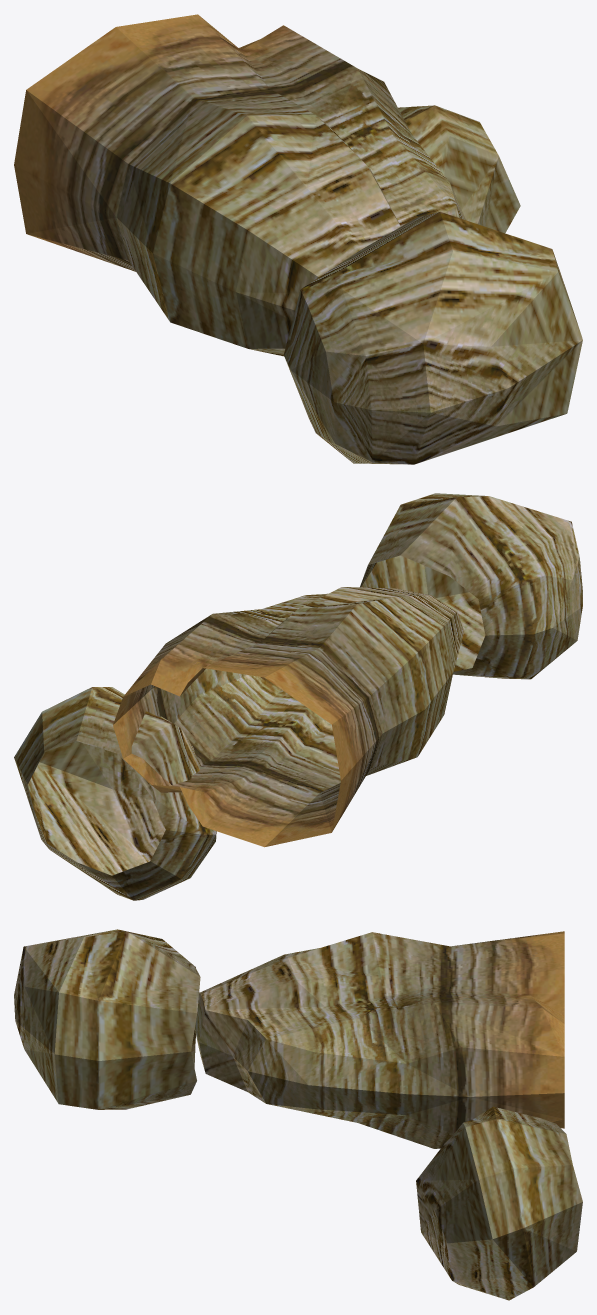
Rendered from zhanchang_fuben_206_common_shanqiu_01b.obj.
The picture shows the model from 3 angles, top to bottom: view 1: azimuth 30°, elevation 25°; view 2: azimuth 150°, elevation 25°; view 3: azimuth 270°, elevation 25°; orthographic projection. The views are drawn at different scales.
Parts seen in each view (by area): view 1: zhanchang_fuben_206_common_shanqiu_01b; view 2: zhanchang_fuben_206_common_shanqiu_01b; view 3: zhanchang_fuben_206_common_shanqiu_01b.
Boxes of the visible parts, x1=… form: zhanchang_fuben_206_common_shanqiu_01b: x1=14, y1=14, x2=582, y2=464; zhanchang_fuben_206_common_shanqiu_01b: x1=14, y1=493, x2=582, y2=900; zhanchang_fuben_206_common_shanqiu_01b: x1=14, y1=929, x2=582, y2=1300.
Size of the model in its own units: 128 by 103 by 179.
1 material, 1 textured.
